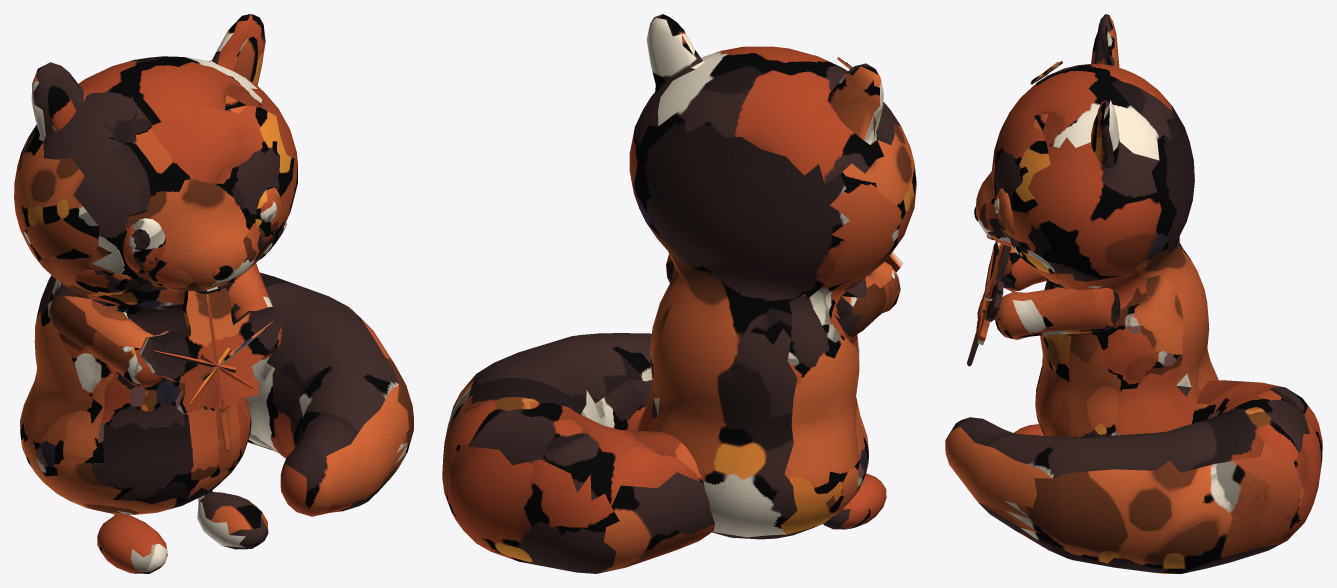
Rendered from creature_redpanda.fbx.
The picture shows the model from 3 angles, left to right: view 1: azimuth 30°, elevation 25°; view 2: azimuth 150°, elevation 25°; view 3: azimuth 270°, elevation 25°; orthographic projection. The views are drawn at different scales.
Parts seen in each view (by area): view 1: creature_redpanda; view 2: creature_redpanda; view 3: creature_redpanda.
Boxes of the visible parts, bbox=[...] form: creature_redpanda: bbox=[14, 14, 413, 573]; creature_redpanda: bbox=[442, 14, 916, 573]; creature_redpanda: bbox=[945, 14, 1322, 573].
Size of the model in its own units: 420 by 500 by 400.
1 material, 1 textured.
